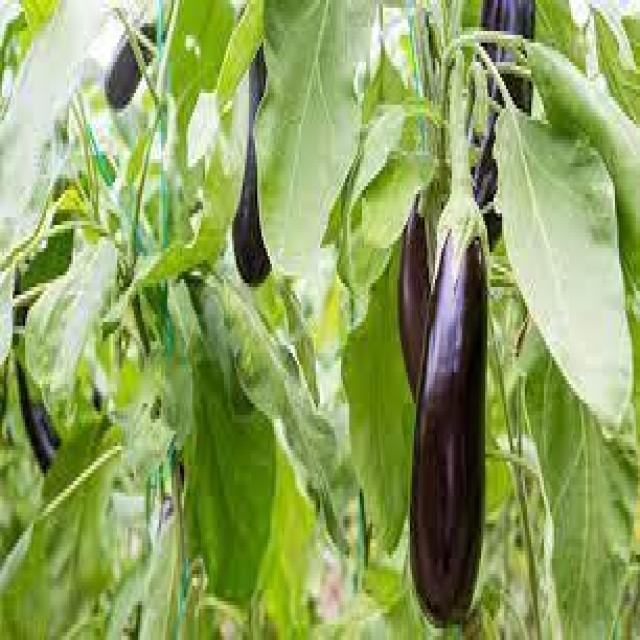Eggplant: (414, 236, 487, 620), (395, 193, 431, 405)
